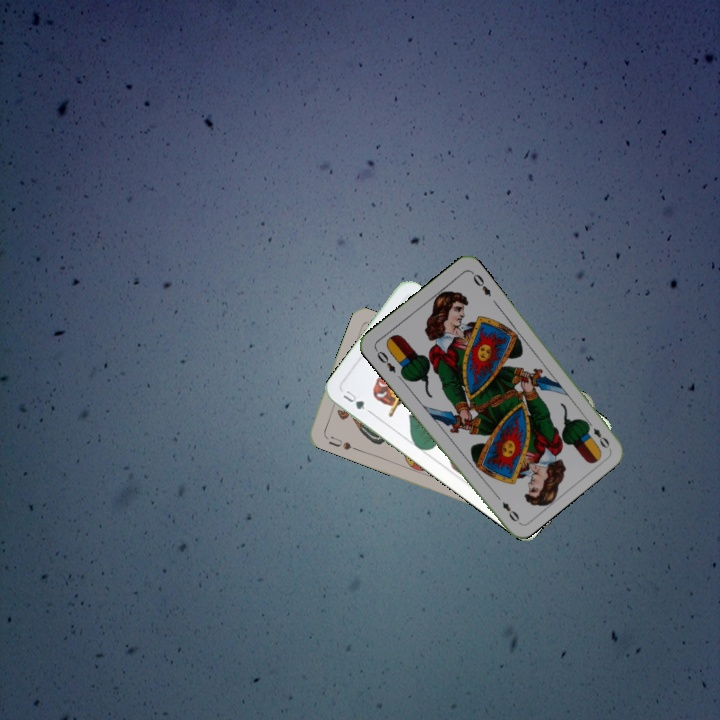EO: (582, 416, 612, 451), (371, 345, 398, 376)
GU: (339, 386, 373, 416)
SU: (324, 432, 359, 453)
